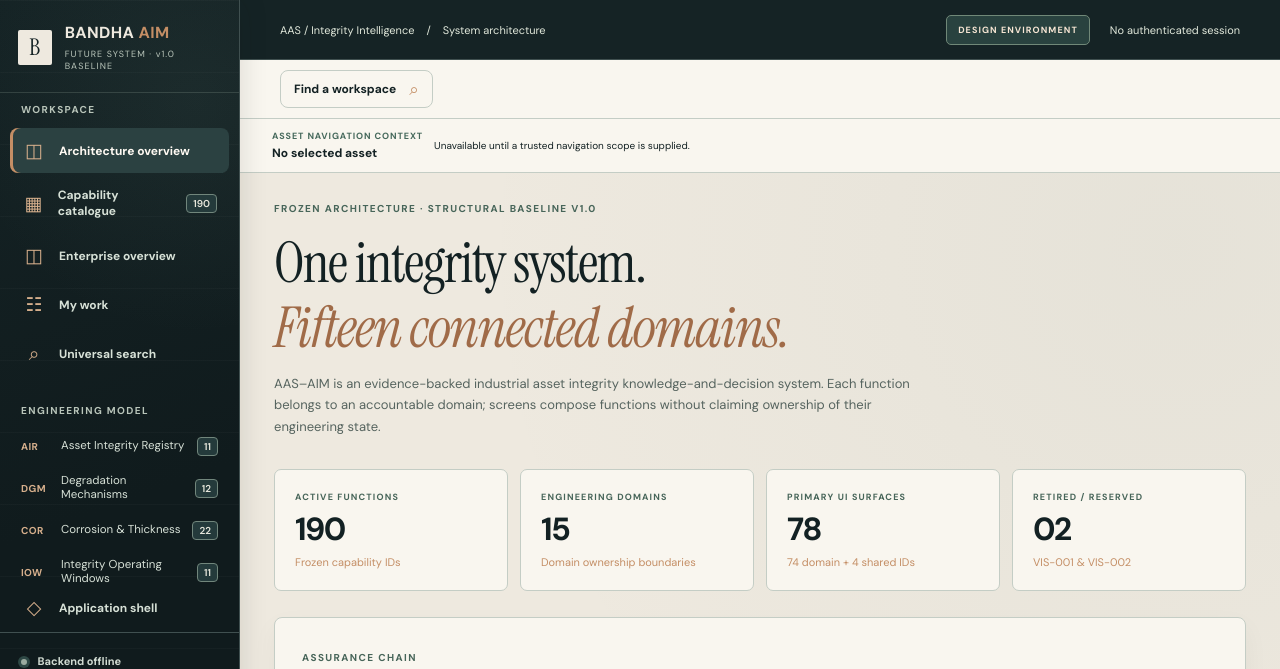
Test: Phase 46.11 — workspace finder shell integration › shows an explicit limited result count rather than silently hiding screens
The width and height of the screenshot is (1280, 669).
Click the heading "Find a workspace ⌕" at (356, 89), box [280,70,433,108]
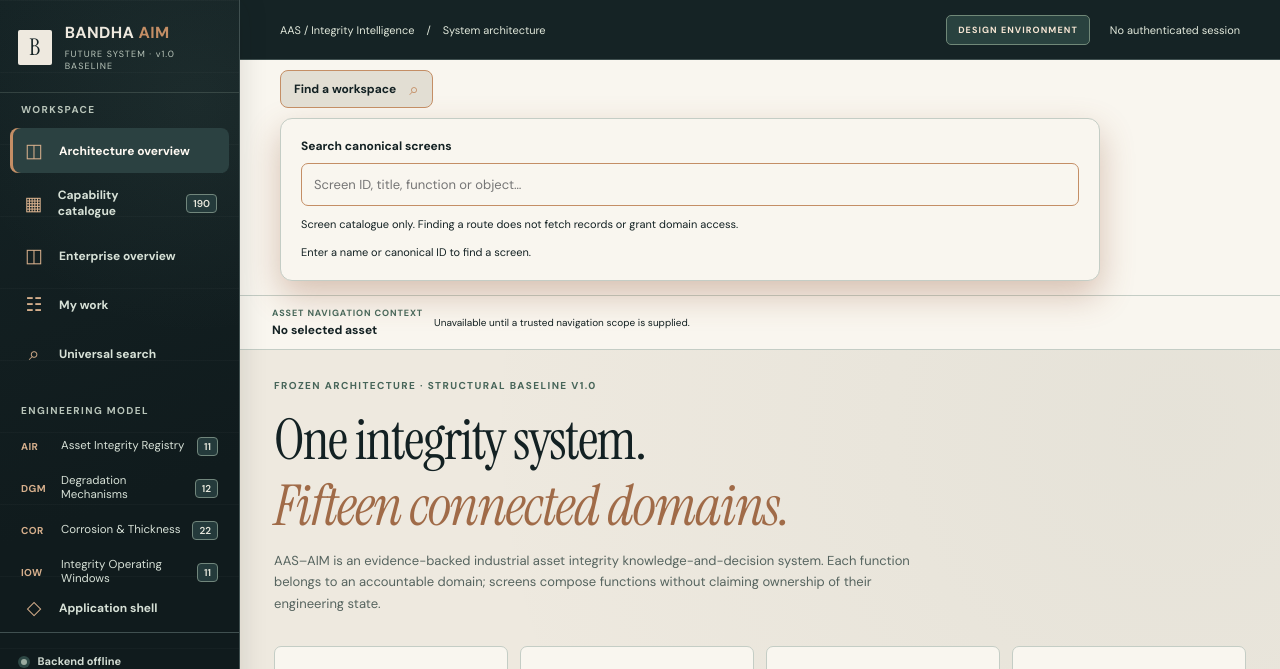
Type "SCR" into the search field labelled "Search canonical screens" at (690, 184), box [301,163,1079,206]
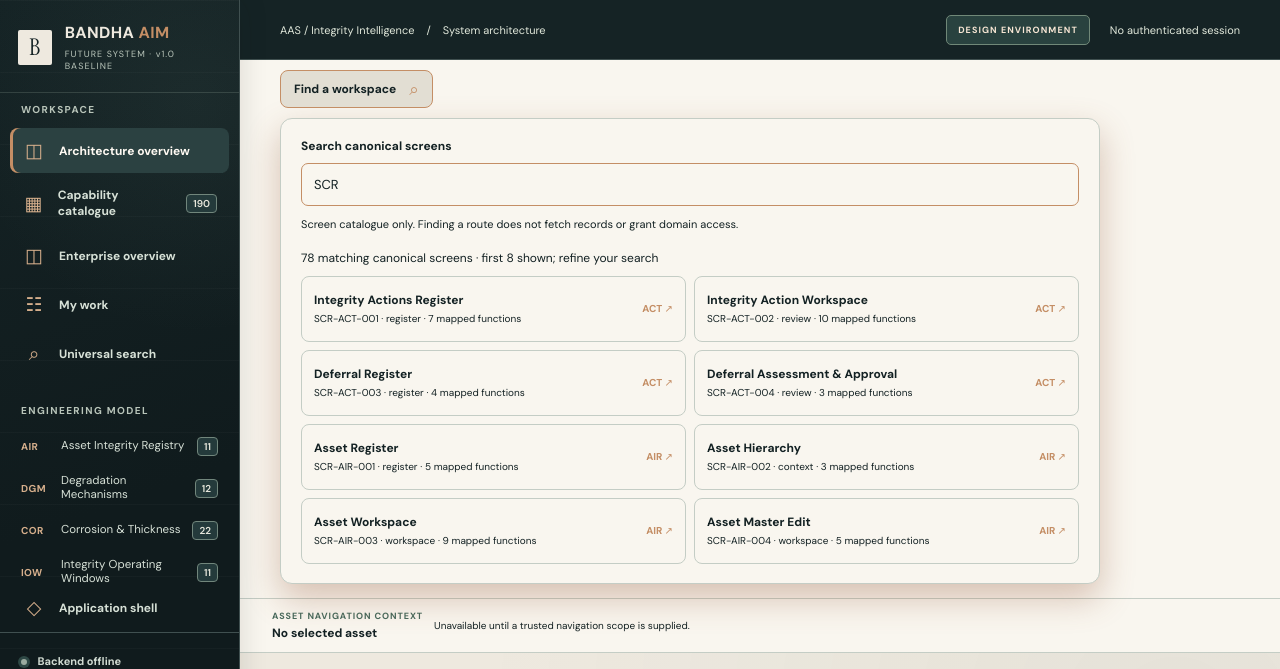
Expected: the text "78 matching canonical screens · first 8 shown; refine your search" is shown, [301,250,658,266]
